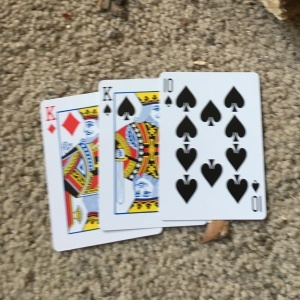card: (160, 68, 267, 221), (40, 92, 105, 250), (100, 77, 167, 229)
